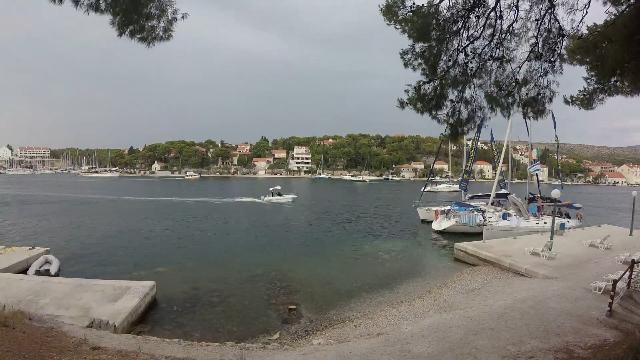speedboat: (257, 181, 299, 207), (178, 166, 210, 184)
